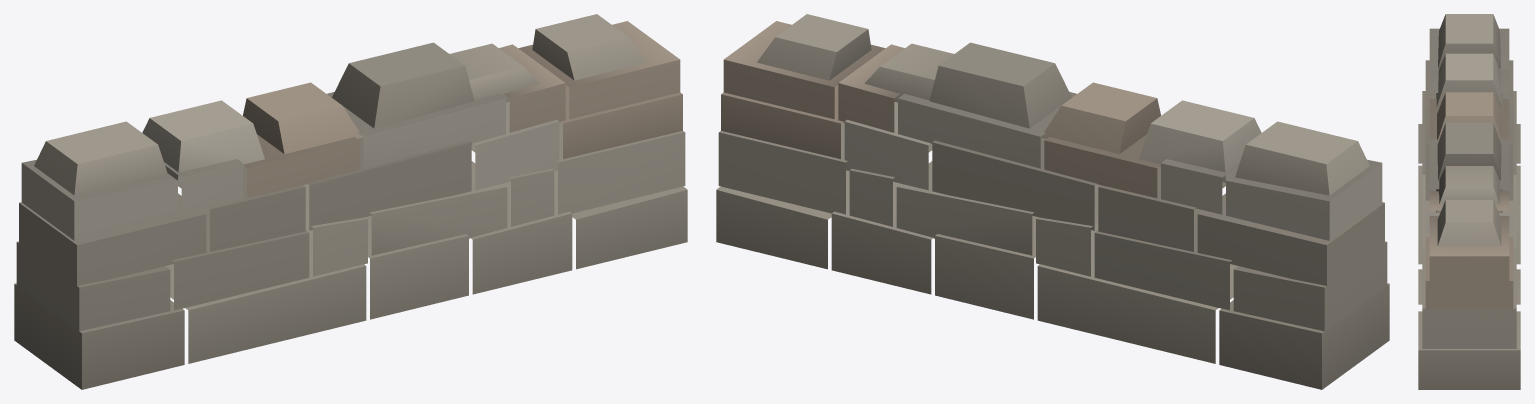
Rendered from swall.lod1.glb.
3 views of the same model, side by side, from view 1: azimuth 30°, elevation 25°; view 2: azimuth 150°, elevation 25°; view 3: azimuth 270°, elevation 25° (orthographic). The views are drawn at different scales.
Size of the model in its own units: 3.98 by 1.34 by 0.77.
